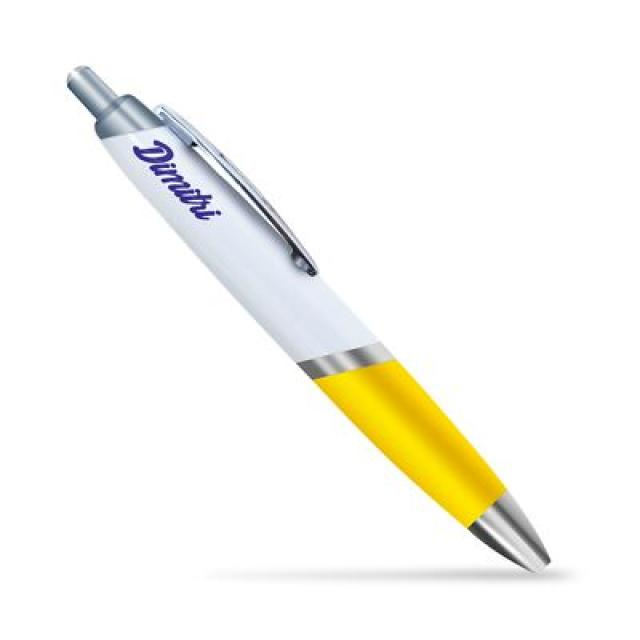pen: (47, 26, 593, 617)
